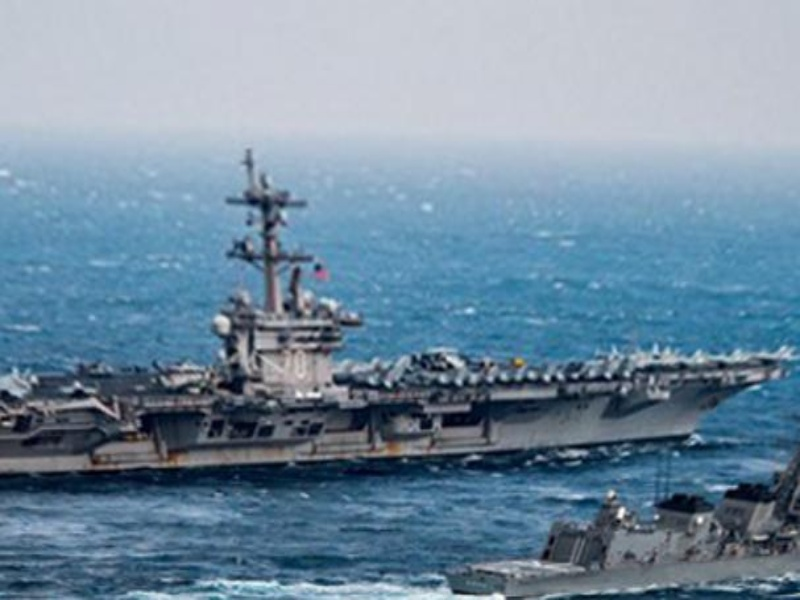carrier: (6, 265, 776, 464)
cruise: (467, 457, 792, 591)
